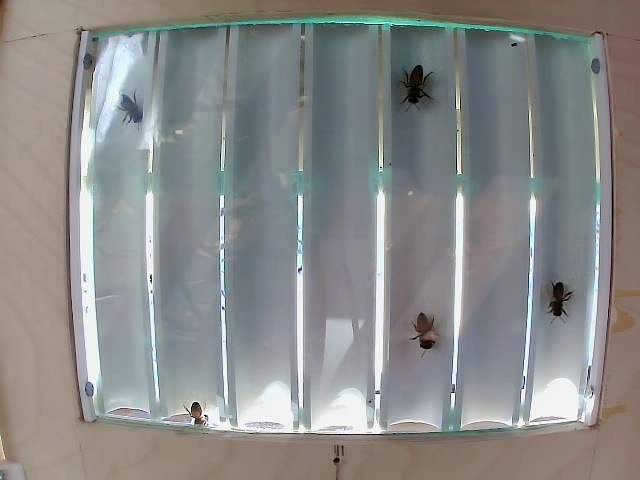bee: (406, 310, 445, 354), (412, 62, 443, 117), (122, 95, 158, 141), (179, 396, 218, 432), (531, 278, 560, 312)
